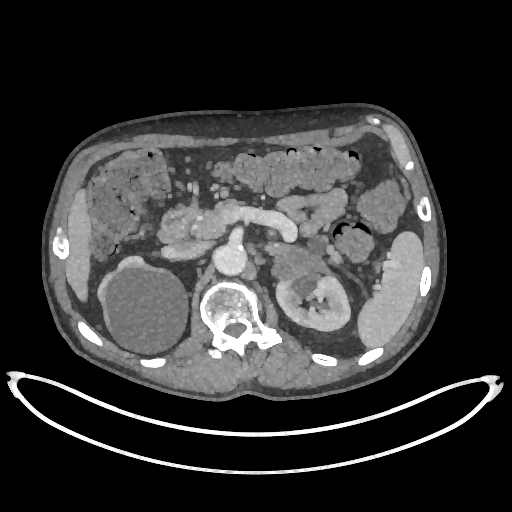Lesion: (272, 245, 329, 281)
